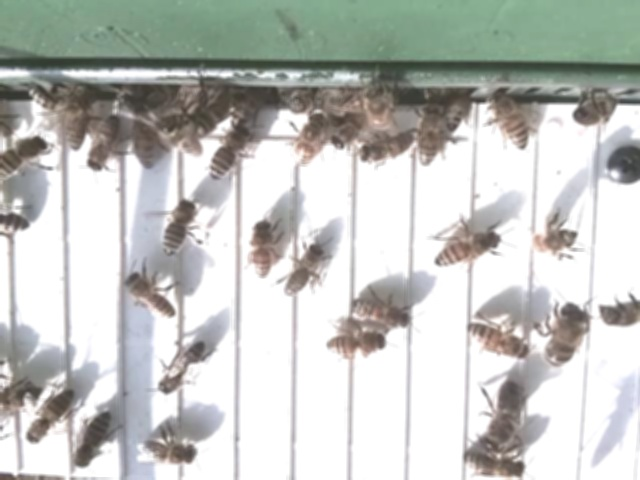Drone: (479, 376, 527, 457)
Worker: (542, 297, 590, 370), (155, 336, 209, 399), (24, 385, 75, 448), (431, 228, 502, 272), (463, 321, 531, 363), (122, 272, 179, 322), (281, 241, 328, 300), (72, 408, 114, 473), (208, 121, 250, 184), (347, 293, 413, 331), (489, 96, 530, 153), (162, 196, 198, 260), (84, 115, 121, 177), (291, 111, 328, 173), (322, 327, 387, 361), (528, 222, 581, 262), (461, 449, 529, 480), (414, 103, 444, 171), (135, 437, 198, 469), (354, 133, 409, 169), (248, 216, 276, 283)
